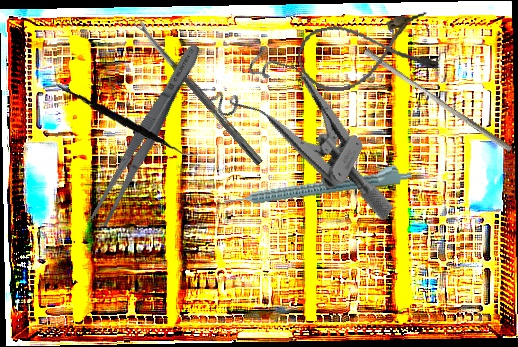Cannula: (293, 9, 440, 97)
Dressing Forceps: (86, 39, 208, 229)
Handpiece: (222, 160, 413, 210)
Pusher: (359, 47, 517, 153)
Spatula Surgical: (42, 71, 199, 171)
Speculum: (199, 36, 431, 222)
Surgical Spoon: (133, 17, 264, 166)
